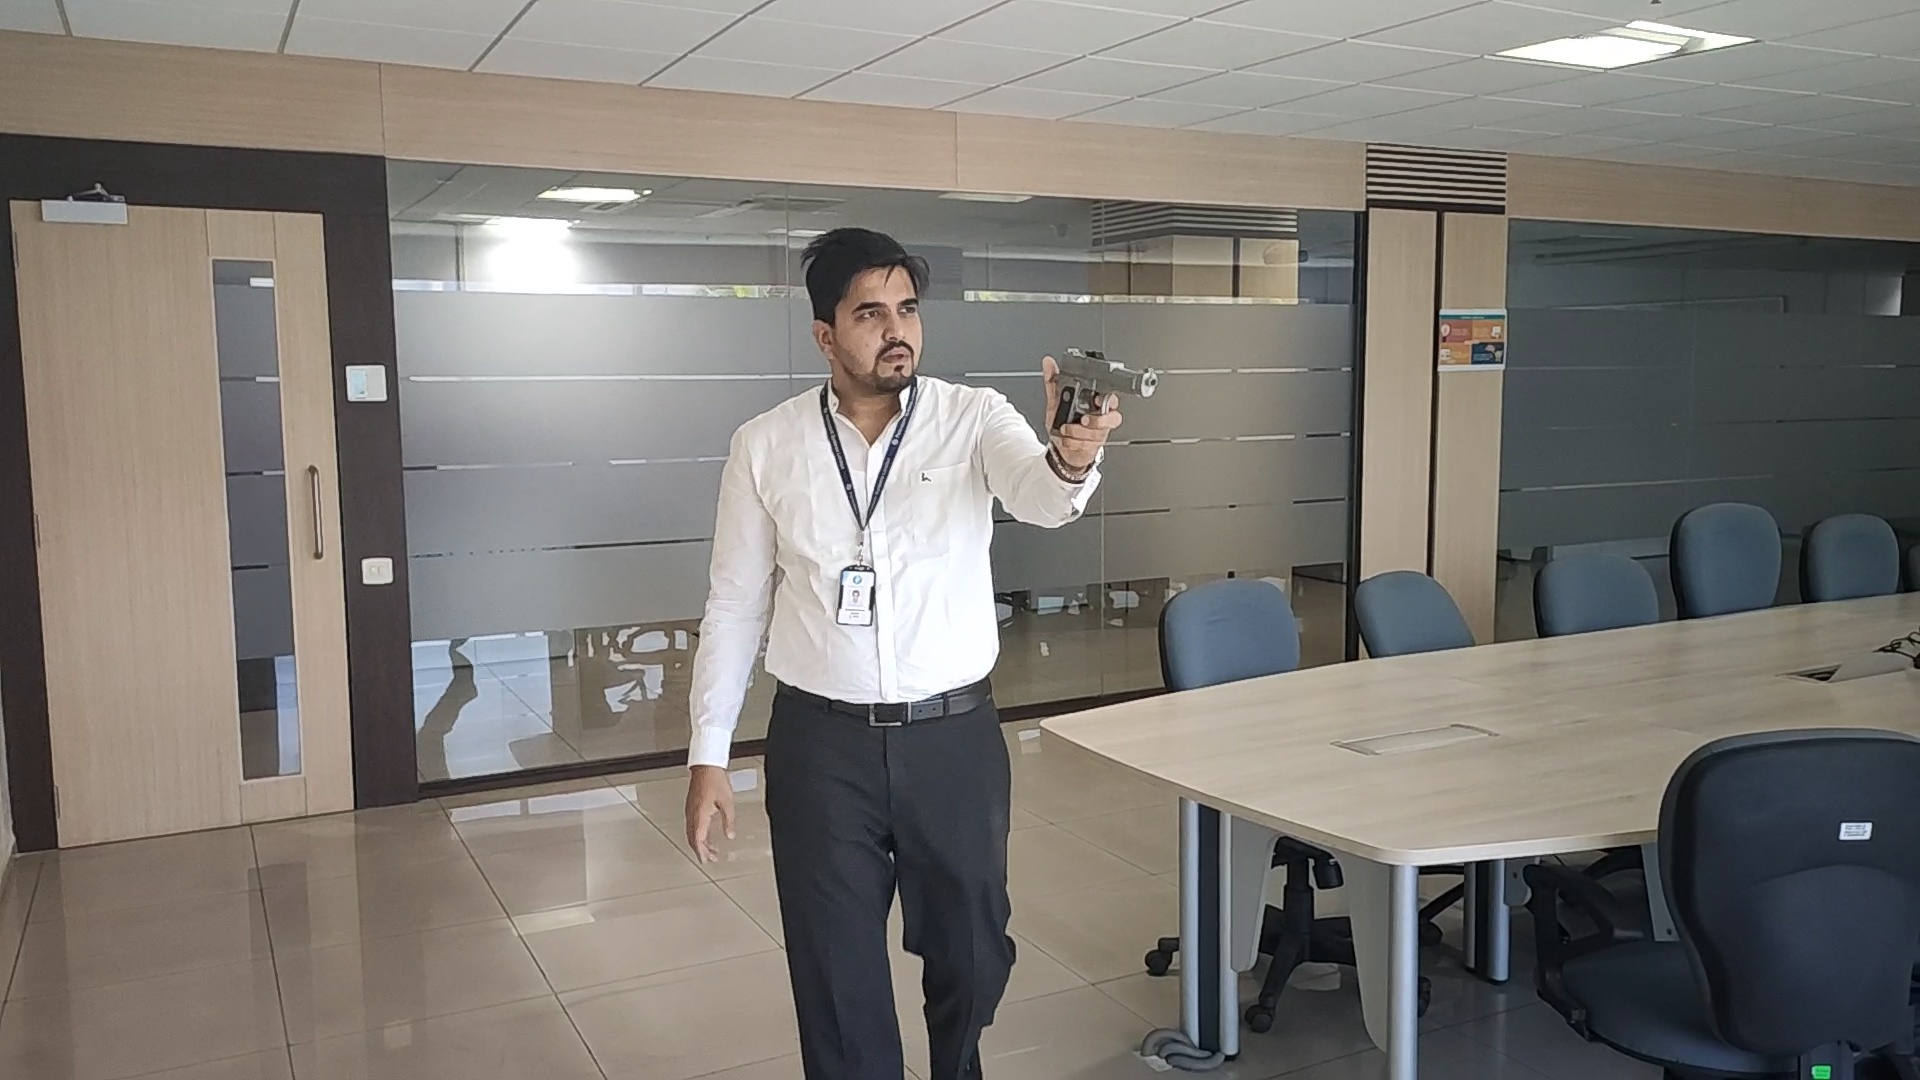gun: (1048, 343, 1158, 434)
